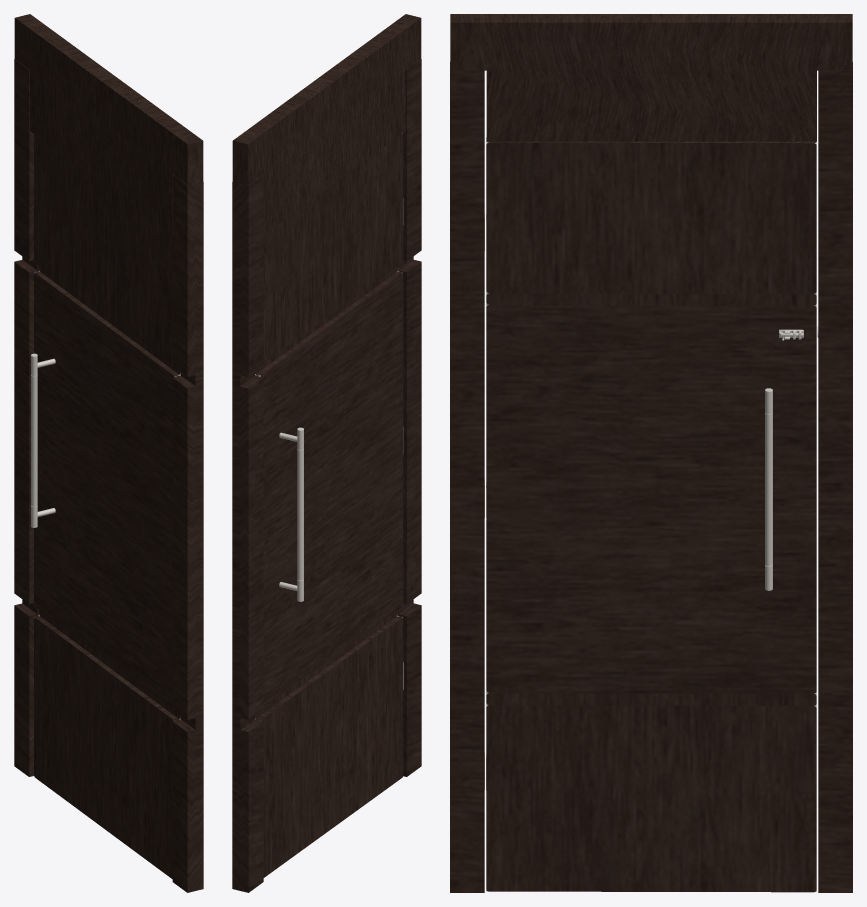
Rendered from doorwood.fbx.
3 views of the same model, side by side, from view 1: azimuth 30°, elevation 25°; view 2: azimuth 150°, elevation 25°; view 3: azimuth 270°, elevation 25° (orthographic). The views are drawn at different scales.
Visible parts, largest first — view 1: Cube, Cube.002; view 2: Cube, Cube.002; view 3: Cube, Cube.002.
Part boxes in pixels (x1,y1,x2,y2): Cube: [31, 134, 180, 878]; Cube.002: [14, 14, 203, 892]; Cube: [255, 133, 403, 877]; Cube.002: [232, 14, 421, 892]; Cube: [486, 137, 816, 892]; Cube.002: [450, 14, 852, 892].
Size of the model in its own units: 22.77 by 291 by 122.
